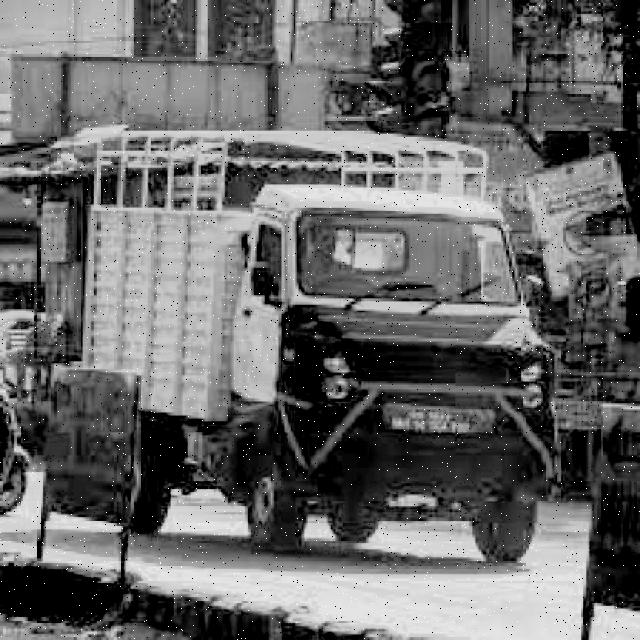LCV: (34, 143, 563, 572)
